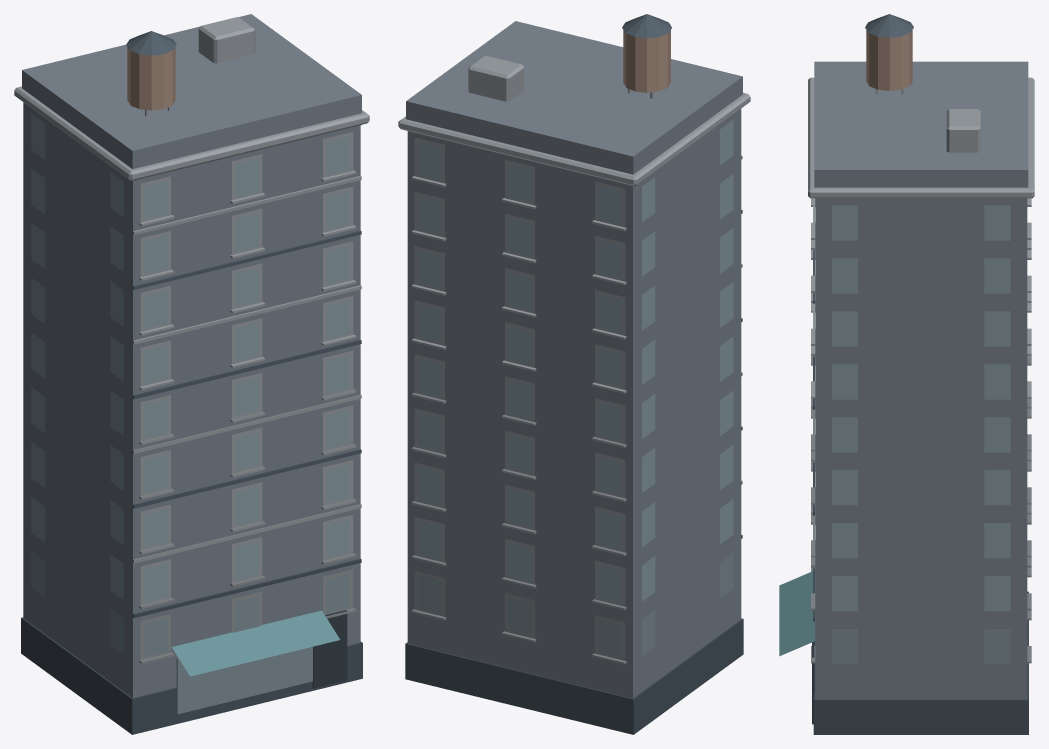
Rendered from edificio_office.glb.
3 views of the same model, side by side, from view 1: azimuth 30°, elevation 25°; view 2: azimuth 150°, elevation 25°; view 3: azimuth 270°, elevation 25° (orthographic). The views are drawn at different scales.
Size of the model in its own units: 6.35 by 16.65 by 6.02.
